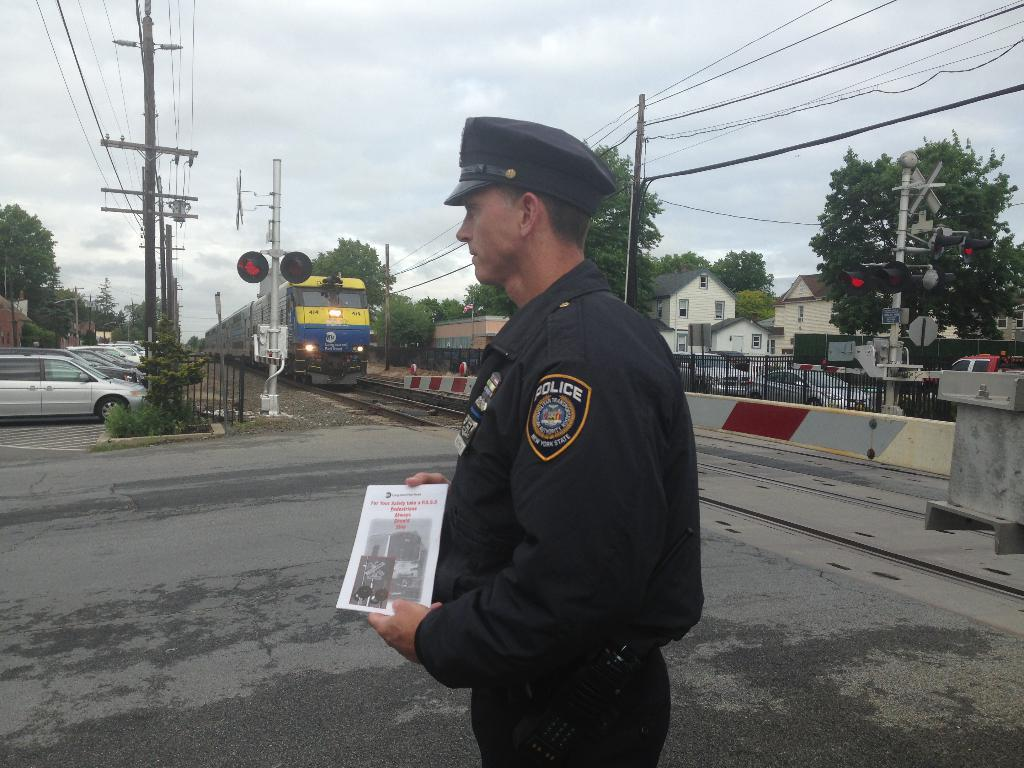Hat: (446, 116, 618, 203)
